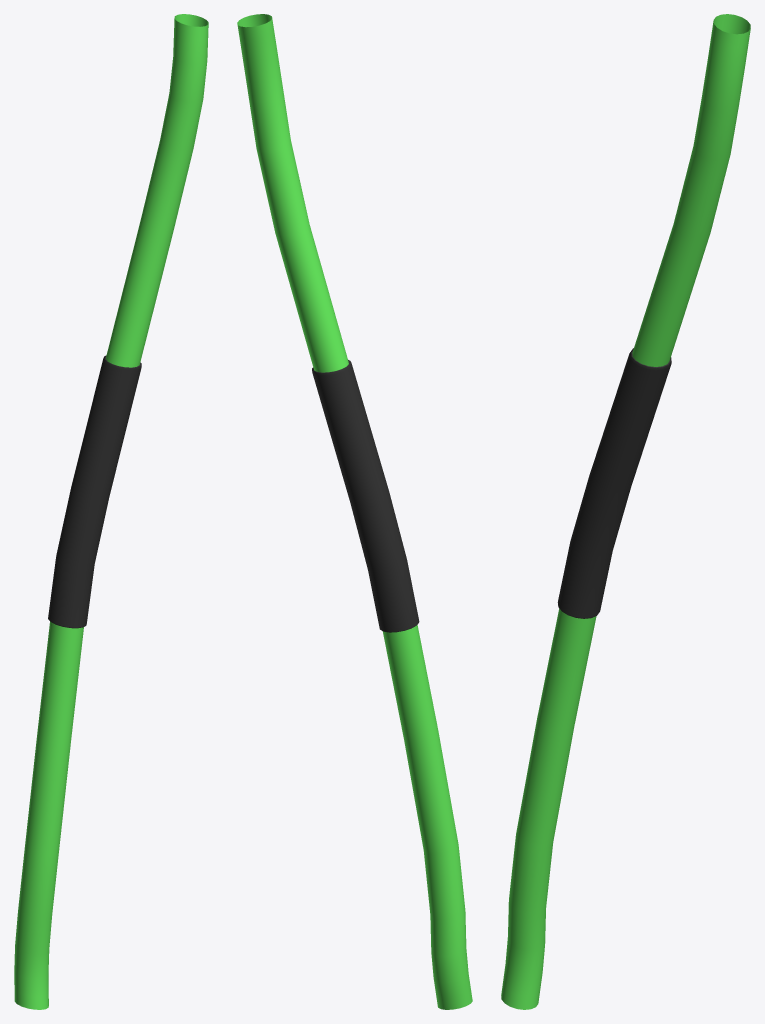
File: original_wire_3.gltf
3 renders of one model, left to right at view 1: azimuth 30°, elevation 25°; view 2: azimuth 150°, elevation 25°; view 3: azimuth 330°, elevation 25°, orthographic. The views are drawn at different scales.
Visible parts, largest first — view 1: wire_fixed_3; view 2: wire_fixed_3; view 3: wire_fixed_3.
Part boxes in pixels (bbox=[...]): wire_fixed_3: bbox=[14, 14, 208, 1009]; wire_fixed_3: bbox=[237, 14, 472, 1009]; wire_fixed_3: bbox=[501, 14, 750, 1009].
Bounding box in the file's own units: 0.00509 × 0.0219 × 0.0015.
